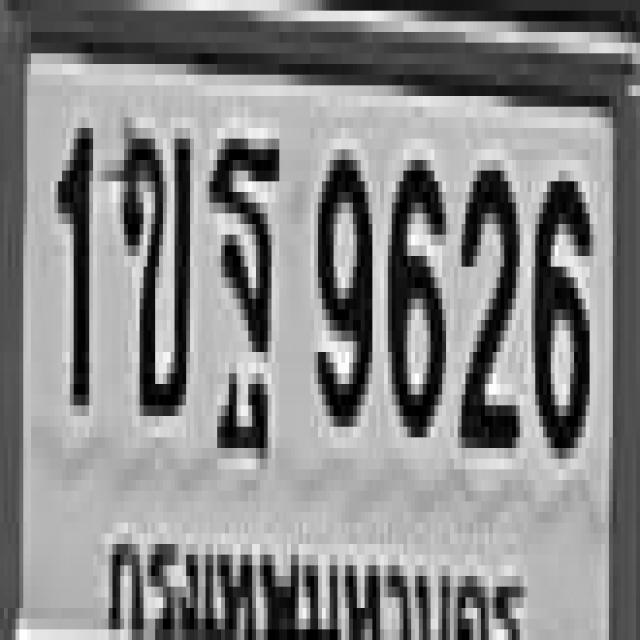1: (54, 117, 90, 395)
11KhorKhai: (118, 112, 188, 400)
2: (458, 155, 516, 432)
25ThorThan: (206, 122, 276, 410)
6: (384, 149, 442, 427), (531, 171, 586, 448)
9: (314, 139, 369, 416)
